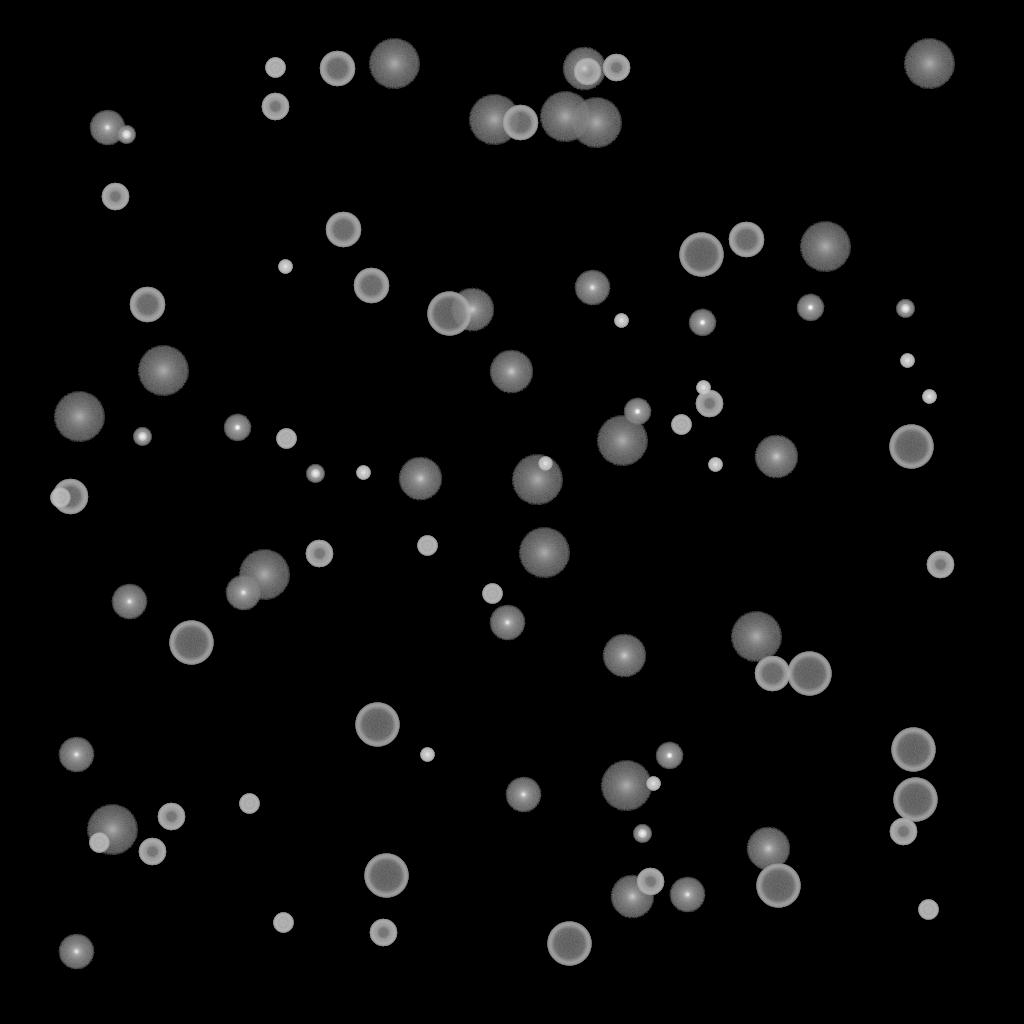depth:-10: (796, 294, 824, 322), (623, 398, 651, 426), (688, 309, 716, 337), (655, 742, 683, 770), (223, 414, 251, 442)
depth:-20: (306, 465, 324, 483), (117, 126, 135, 144), (133, 428, 151, 446), (896, 300, 914, 318), (633, 825, 651, 843)
depth:-30: (922, 390, 936, 404), (614, 314, 628, 328), (646, 777, 660, 791), (420, 748, 434, 762), (278, 260, 292, 274), (696, 381, 710, 395), (356, 466, 370, 480), (538, 457, 552, 471), (708, 458, 722, 472), (900, 354, 914, 368)
depth:-40: (671, 415, 691, 435), (918, 900, 938, 920), (482, 584, 502, 604), (265, 58, 285, 78), (50, 488, 70, 508), (239, 794, 259, 814), (417, 536, 437, 556), (89, 833, 109, 853), (273, 913, 293, 933), (276, 429, 296, 449)
depth:-50: (261, 93, 289, 121), (573, 58, 601, 86), (636, 868, 664, 896), (602, 54, 630, 82), (101, 183, 129, 211), (926, 551, 954, 579), (138, 838, 166, 866), (157, 803, 185, 831), (369, 919, 397, 947), (695, 390, 723, 418), (305, 540, 333, 568), (889, 818, 917, 846)
depth:-60: (325, 212, 361, 248), (52, 479, 88, 515), (754, 656, 790, 692), (129, 287, 165, 323), (502, 105, 538, 141), (728, 222, 764, 258), (319, 51, 355, 87), (353, 268, 389, 304)
depth:-70: (891, 728, 935, 772), (679, 233, 723, 277), (355, 703, 399, 747), (547, 922, 591, 966), (364, 854, 408, 898), (893, 778, 937, 822), (889, 425, 933, 469), (427, 292, 471, 336), (787, 652, 831, 696), (169, 621, 213, 665), (756, 864, 800, 908)
depth:0: (669, 877, 705, 913), (89, 110, 125, 146), (58, 737, 94, 773), (111, 584, 147, 620), (574, 270, 610, 306), (58, 934, 94, 970), (225, 575, 261, 611), (489, 605, 525, 641), (505, 777, 541, 813)
depth:10: (398, 457, 442, 501), (754, 435, 798, 479), (602, 634, 646, 678), (489, 350, 533, 394), (610, 875, 654, 919), (746, 827, 790, 871), (562, 47, 606, 91), (450, 288, 494, 332)
depth:20: (238, 550, 290, 600), (511, 455, 563, 505), (799, 222, 851, 272), (539, 92, 591, 142), (53, 392, 105, 442), (468, 95, 520, 145), (137, 346, 189, 396), (368, 39, 420, 89), (730, 612, 782, 662), (570, 98, 622, 148), (86, 805, 138, 855), (518, 528, 570, 578), (600, 761, 652, 811), (903, 39, 955, 89), (596, 416, 648, 466)
